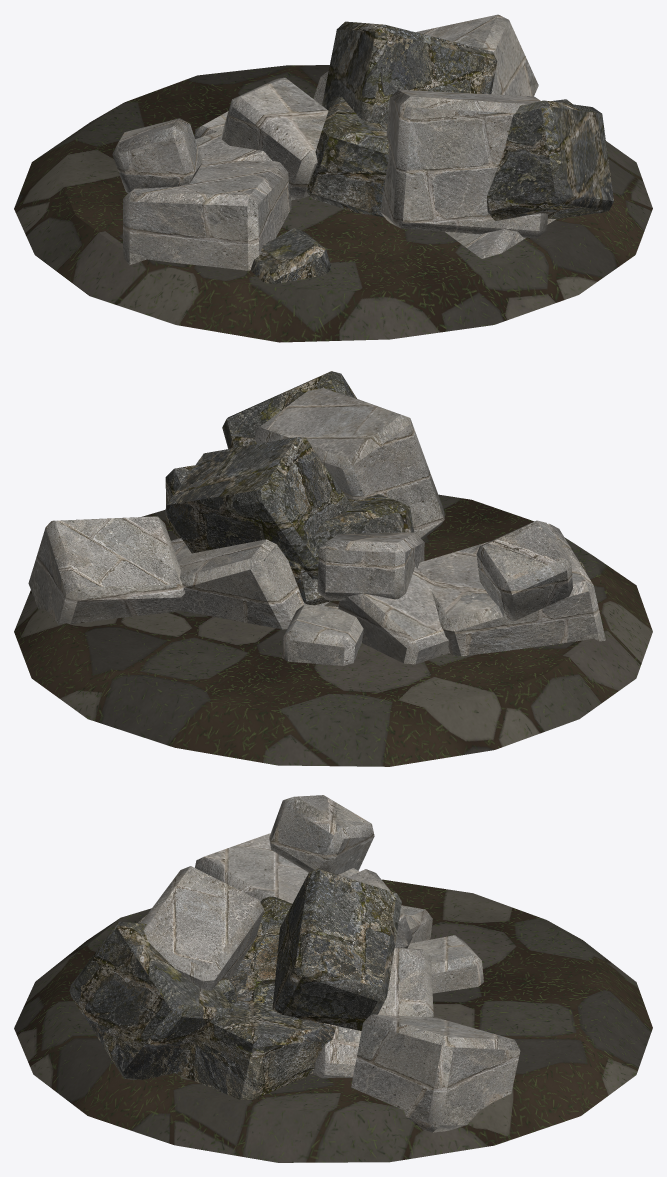
The model's file is rubble-v01.glb.
3 renders of one model, top to bottom at view 1: azimuth 30°, elevation 25°; view 2: azimuth 150°, elevation 25°; view 3: azimuth 270°, elevation 25°, orthographic.
Visible parts, largest first — view 1: rubble; view 2: rubble; view 3: rubble.
Boxes of the visible parts, x1,y1,x2,y2 form: rubble: [14, 14, 652, 342]; rubble: [14, 371, 652, 766]; rubble: [14, 795, 652, 1162].
Size of the model in its own units: 2.18 by 0.6802 by 2.19.
Materials: 3 (3 with a texture image).
